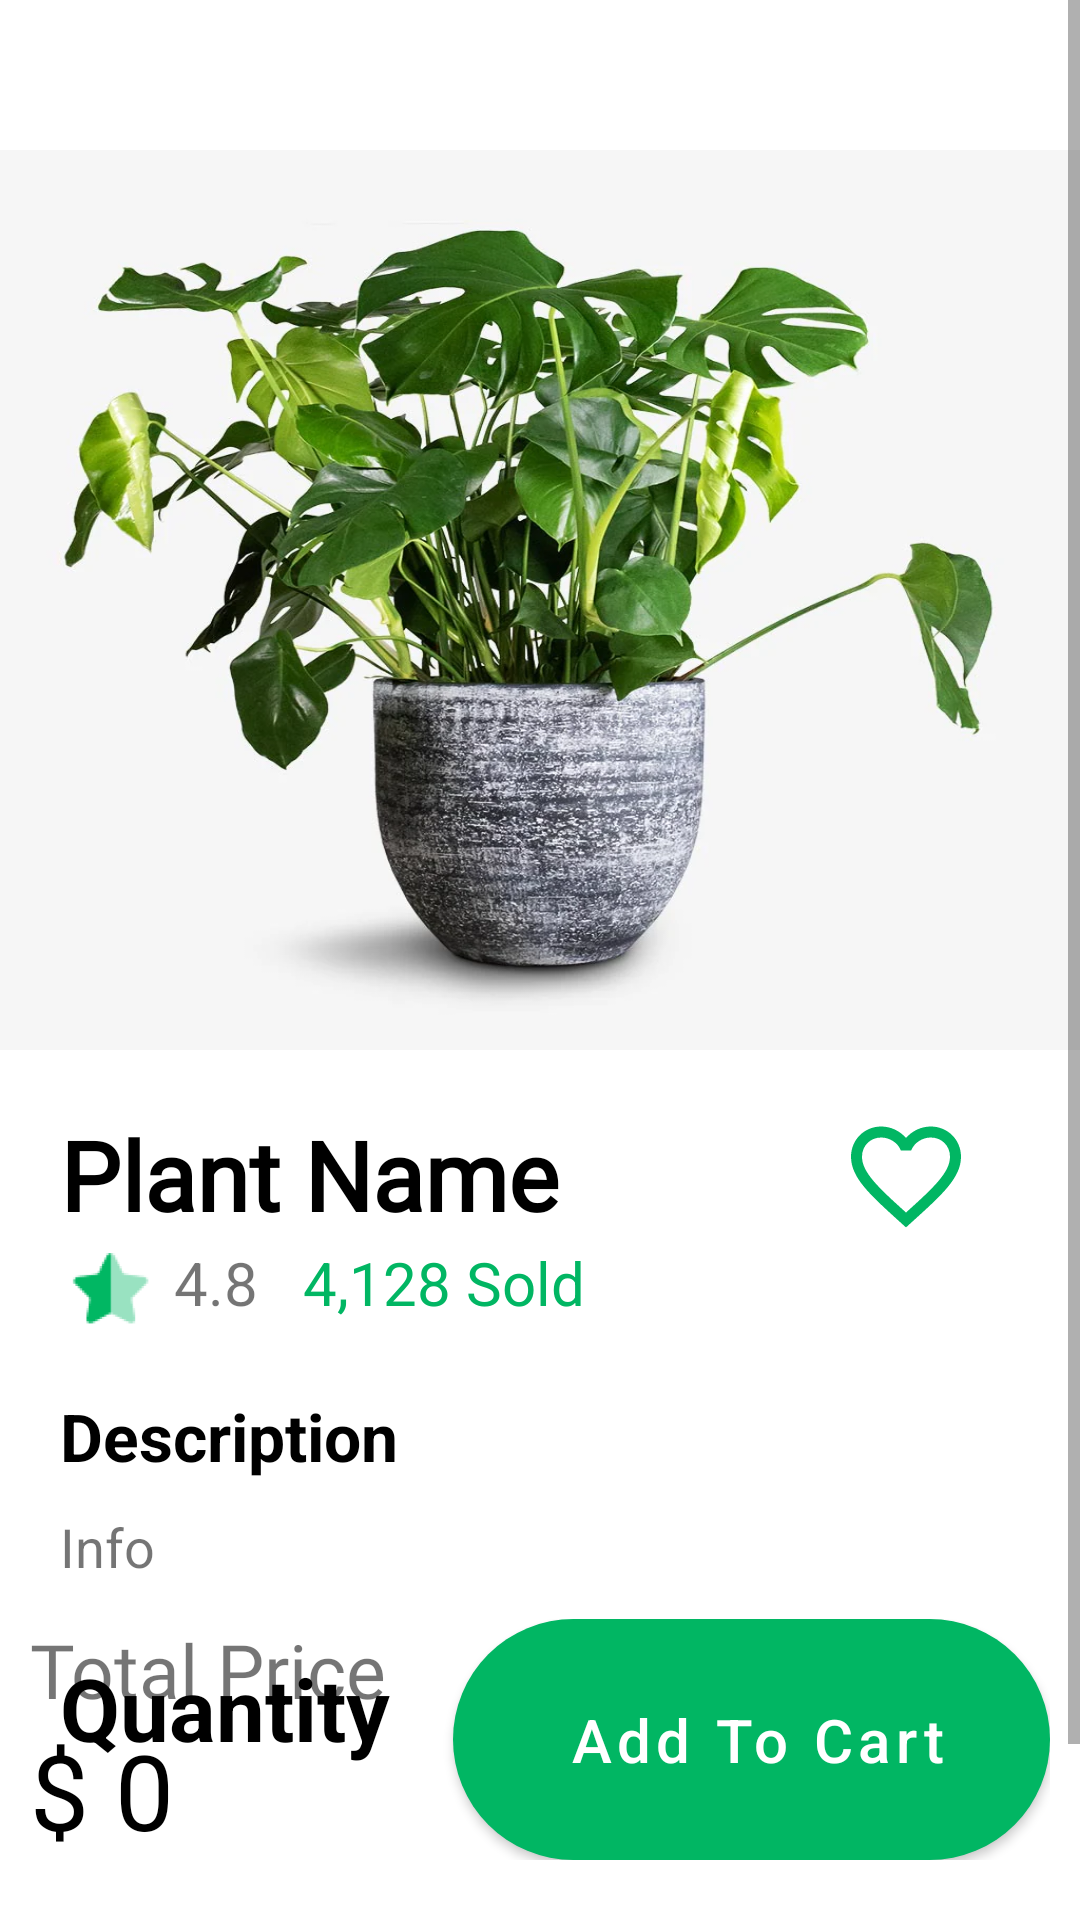

Where to tap for icons on this 1080*1920 app screen, as (x=x, y=y):
favorite border: (x=906, y=1176)
